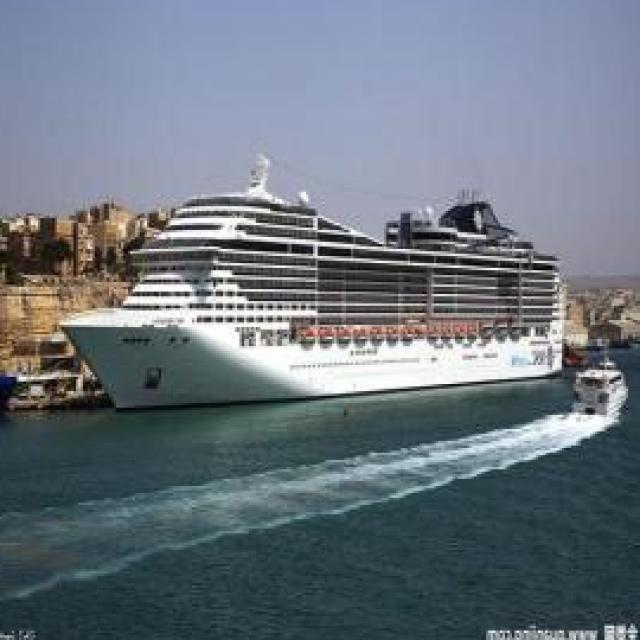houseboat: (569, 346, 628, 419)
passenger ship: (79, 176, 567, 408)
